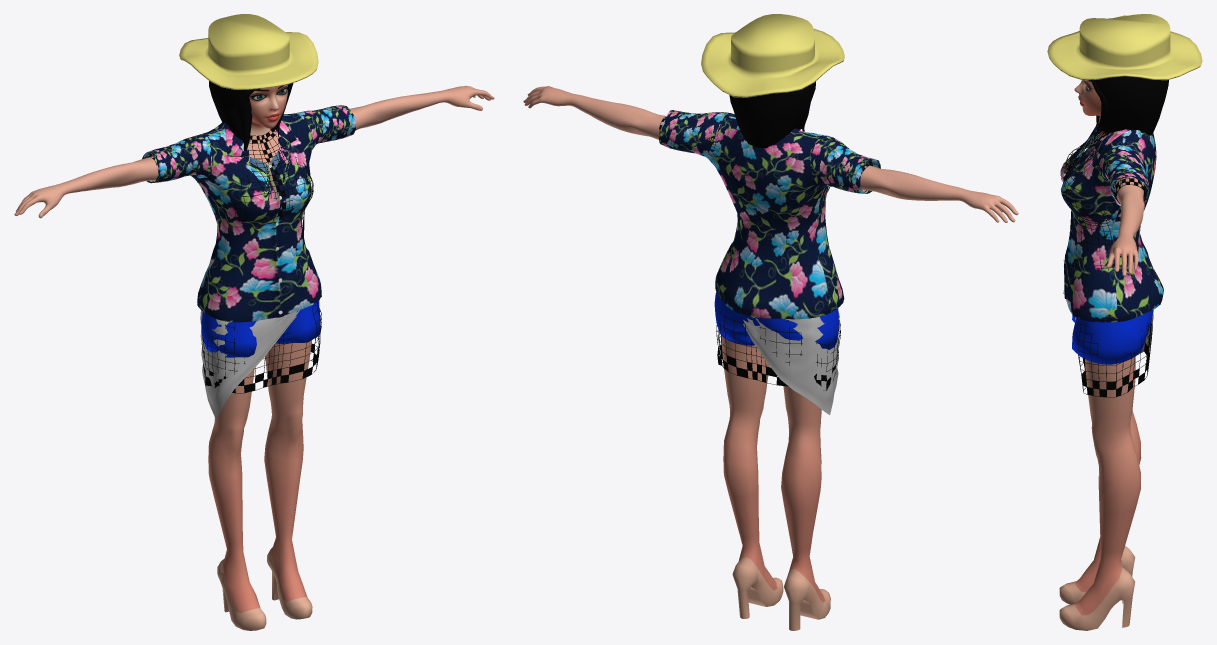
The model's file is Female_All_Assets.fbx.
3 renders of one model, left to right at view 1: azimuth 30°, elevation 25°; view 2: azimuth 150°, elevation 25°; view 3: azimuth 270°, elevation 25°, orthographic. The views are drawn at different scales.
Parts seen in each view (by area): view 1: body, Shirt, Hat, Fishnet, Pareo, Shots, Hair; view 2: Shirt, body, Hat, Pareo, Hair, Shots, Fishnet; view 3: body, Shirt, Hat, Hair, Fishnet, Shots.
Part boxes in pixels (<box>): body: <box>14,85,494,630</box>; Shirt: <box>142,105,355,322</box>; Hat: <box>179,14,318,89</box>; Fishnet: <box>146,129,340,393</box>; Pareo: <box>200,310,299,418</box>; Shots: <box>201,300,320,357</box>; Hair: <box>209,81,293,156</box>; Shirt: <box>659,110,880,319</box>; body: <box>523,86,1018,630</box>; Hat: <box>701,14,844,97</box>; Pareo: <box>743,313,839,414</box>; Hair: <box>729,81,815,148</box>; Shots: <box>714,292,838,349</box>; Fishnet: <box>659,116,872,390</box>; body: <box>1059,80,1144,630</box>; Shirt: <box>1060,115,1163,322</box>; Hat: <box>1047,14,1202,80</box>; Hair: <box>1090,76,1168,145</box>; Fishnet: <box>1063,127,1152,397</box>; Shots: <box>1072,310,1153,364</box>.
Bounding box in the file's own units: 125 × 144 × 34.72.
